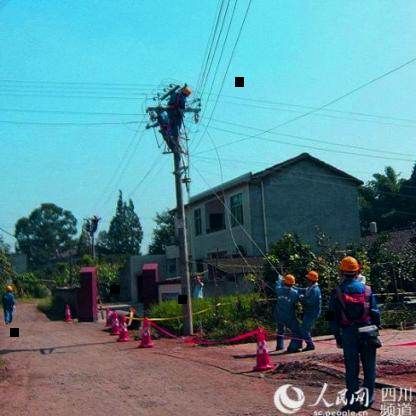helmet: (338, 257, 362, 278), (280, 270, 300, 288), (304, 270, 321, 284)
